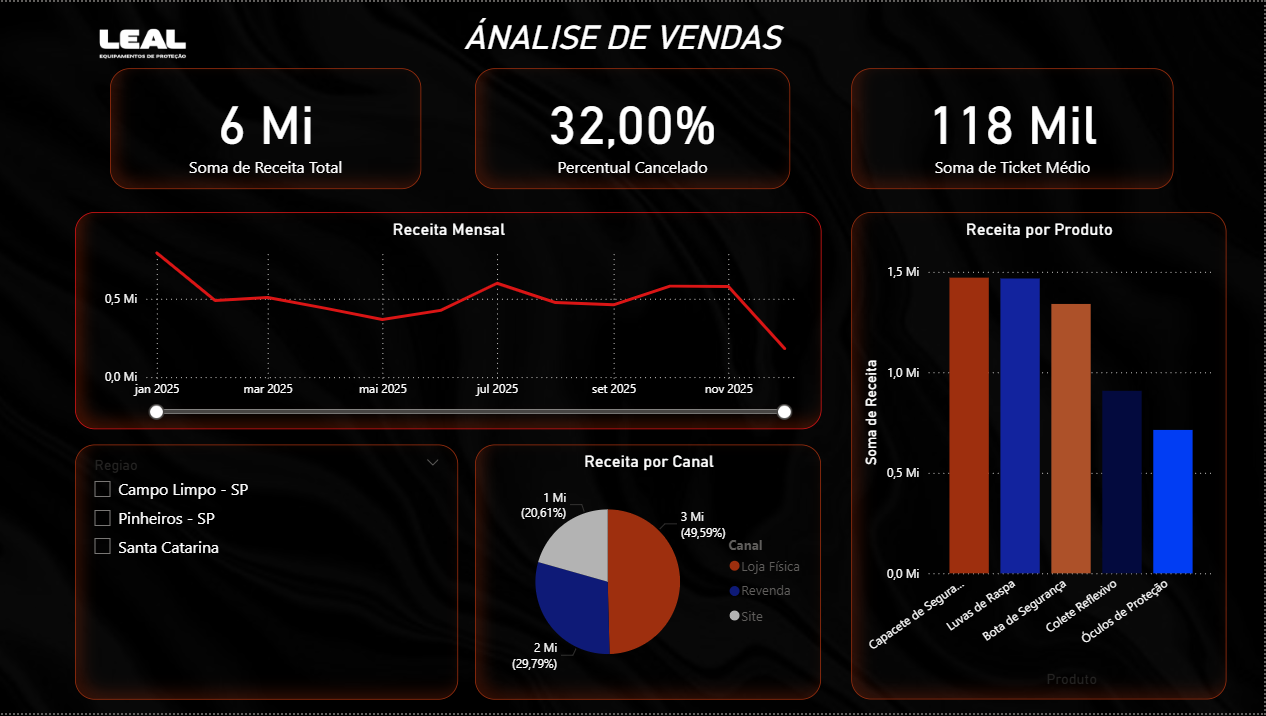

The page's visual inventory and layout, read from the dashboard file:
{"tool":"powerbi","page":{"name":"Página 1","canvas":[1280,720],"ordinal":0},"visuals":[{"type":"card","fields":{"Values":["Sum(Ticket medio.Ticket Médio)"]},"box":[862,67.1,326.6,122.8],"z":0},{"type":"card","fields":{"Values":["Sum(Receita total.Receita Total)"]},"box":[111.4,67.1,315.2,122.8],"z":1},{"type":"card","fields":{"Values":["vendas_leal_limpo.Percentual Cancelado"]},"box":[481,67.1,319,122.8],"z":2},{"type":"columnChart","title":" Receita por Produto","fields":{"Category":["produtos mais vendidos.Produto"],"Y":["Sum(produtos mais vendidos.Receita)"]},"box":[862,212.7,379.7,493.7],"z":4},{"type":"lineChart","title":" Receita Mensal","fields":{"Category":["Receita Mensal.Mês.Variation.Hierarquia de datas.Ano","Receita Mensal.Mês.Variation.Hierarquia de datas.Trimestre","Receita Mensal.Mês.Variation.Hierarquia de datas.Mês","Receita Mensal.Mês.Variation.Hierarquia de datas.Dia"],"Y":["Sum(Receita Mensal.Receita Mensal)"]},"box":[75.9,212.7,755.7,220.3],"z":5},{"type":"pieChart","title":"Receita por Canal","fields":{"Category":["Receita Canal.Canal"],"Y":["Sum(Receita Canal.Receital Canal)"]},"box":[481.4,447.8,350.8,258.7],"z":6},{"type":"textbox","box":[482.3,11.4,350.6,55.7],"z":7},{"type":"slicer","fields":{"Values":["Receita Regiao.Regiao"]},"box":[75.9,447.8,388.1,258.7],"z":9},{"type":"image","box":[0,0,194.9,82.3],"z":10}]}

Visuals, with their boxes in screenshot pixels (x1, y1, x2, y2), scaled from the page's 1280x720 canvas onto the 1266x716 screenshot:
card - Sum(Ticket medio.Ticket Médio): Rect(853, 67, 1176, 189)
card - Sum(Receita total.Receita Total): Rect(110, 67, 422, 189)
card - vendas_leal_limpo.Percentual Cancelado: Rect(476, 67, 791, 189)
" Receita por Produto" columnChart: Rect(853, 212, 1228, 702)
" Receita Mensal" lineChart: Rect(75, 212, 823, 431)
"Receita por Canal" pieChart: Rect(476, 445, 823, 703)
textbox: Rect(477, 11, 824, 67)
slicer - Receita Regiao.Regiao: Rect(75, 445, 459, 703)
image: Rect(0, 0, 193, 82)
